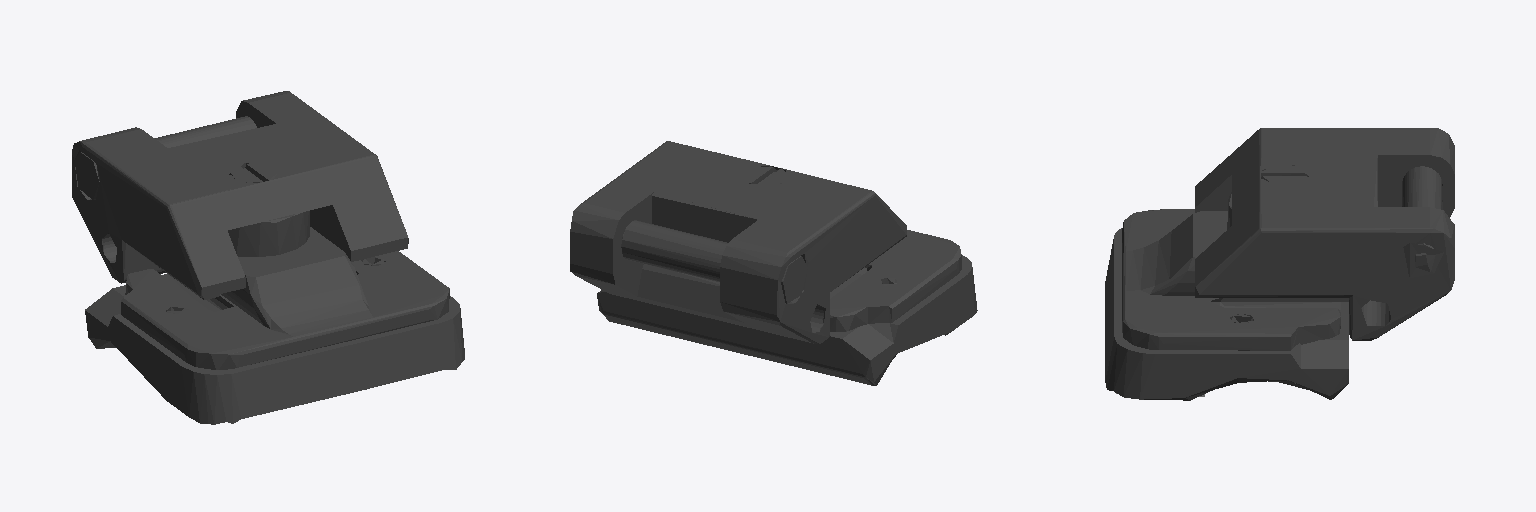
The picture shows the model from 3 angles: view 1: azimuth 30°, elevation 25°; view 2: azimuth 150°, elevation 25°; view 3: azimuth 270°, elevation 25°; orthographic projection.
Visible parts, largest first — view 1: Right_Distal_Right_Distal.002; view 2: Right_Distal_Right_Distal.002; view 3: Right_Distal_Right_Distal.002.
Part boxes in pixels (x1,y1,x2,y2): Right_Distal_Right_Distal.002: (72, 91, 464, 424); Right_Distal_Right_Distal.002: (570, 141, 977, 385); Right_Distal_Right_Distal.002: (1105, 128, 1454, 400).
Bounding box in the file's own units: 0.039 × 0.0222 × 0.0431.
Materials: 2 (1 with a texture image).